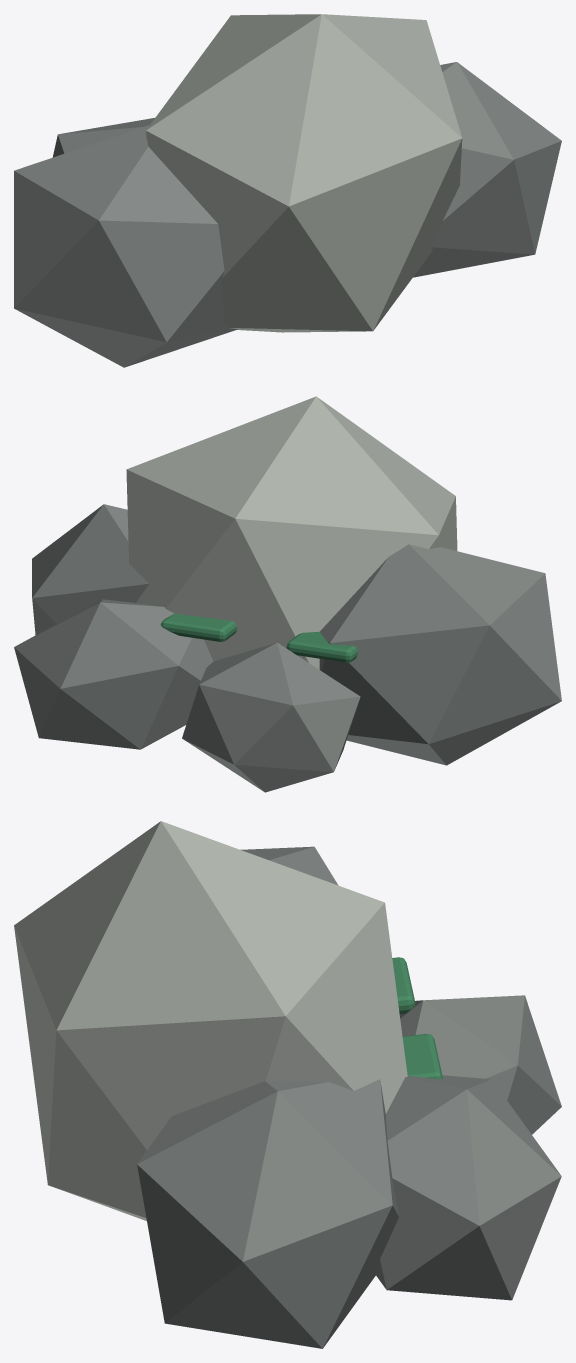
Rendered from Rock-Cluster.glb.
3 renders of one model, top to bottom at view 1: azimuth 30°, elevation 25°; view 2: azimuth 150°, elevation 25°; view 3: azimuth 270°, elevation 25°, orthographic. The views are drawn at different scales.
Parts seen in each view (by area): view 1: Rock_1, Rock_0, Rock_2, Rock_3; view 2: Rock_1, Rock_0, Rock_4, Rock_3, Rock_2, Rock_Moss.001, Rock_Moss; view 3: Rock_1, Rock_2, Rock_4, Rock_3, Rock_0, Rock_Moss.001, Rock_Moss.
Part boxes in pixels (x1,y1,x2,y2): Rock_1: (145,14,462,332); Rock_0: (14,125,237,367); Rock_2: (413,62,561,277); Rock_3: (52,118,154,157); Rock_1: (126,396,457,669); Rock_0: (319,544,561,765); Rock_4: (14,599,213,749); Rock_3: (182,642,360,792); Rock_2: (32,504,149,634); Rock_Moss.001: (160,613,236,641); Rock_Moss: (286,631,357,662); Rock_1: (14,821,407,1220); Rock_2: (137,1079,398,1348); Rock_4: (375,1075,561,1300); Rock_3: (399,995,561,1134); Rock_0: (240,846,338,885); Rock_Moss.001: (402,1034,442,1079); Rock_Moss: (392,957,415,1014).
Bounding box in the file's own units: 2.33 × 1.4 × 1.57.
